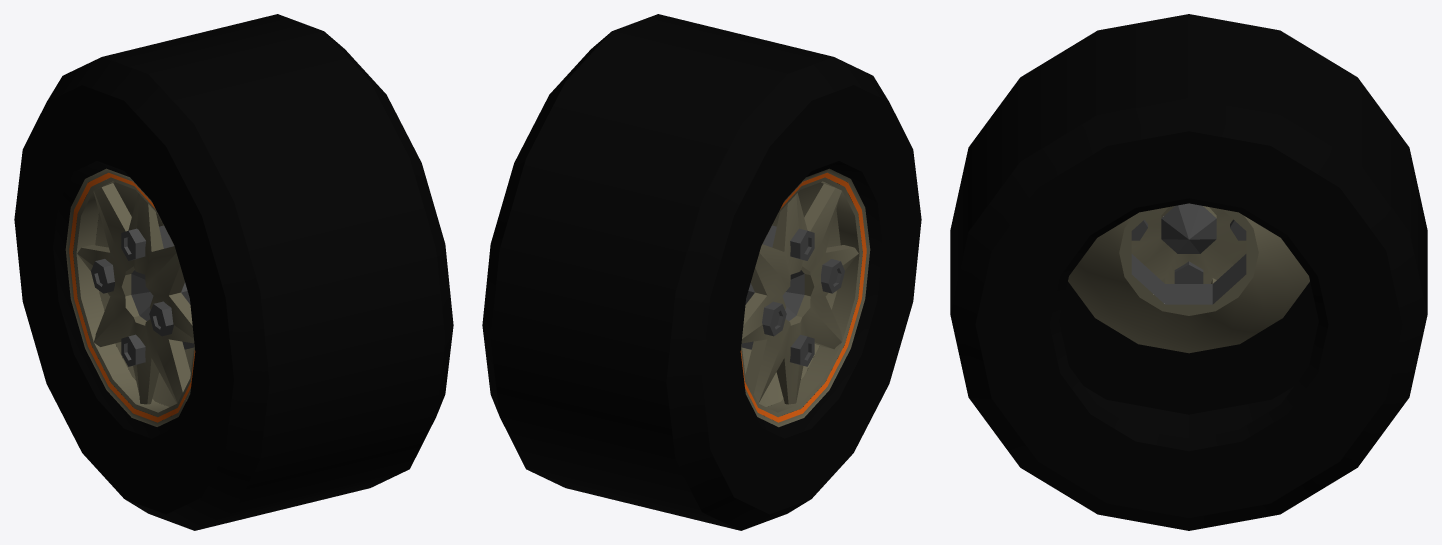
Rendered from ruedatraseraDer.glb.
3 renders of one model, left to right at view 1: azimuth 30°, elevation 25°; view 2: azimuth 150°, elevation 25°; view 3: azimuth 270°, elevation 25°, orthographic.
Visible parts, largest first — view 1: ruedatraseraDer; view 2: ruedatraseraDer; view 3: ruedatraseraDer.
Boxes of the visible parts, x1=… form: ruedatraseraDer: x1=14, y1=14, x2=453, y2=530; ruedatraseraDer: x1=482, y1=14, x2=921, y2=530; ruedatraseraDer: x1=950, y1=14, x2=1427, y2=530.
Size of the model in its own units: 1.37 by 2.6 by 2.6.
